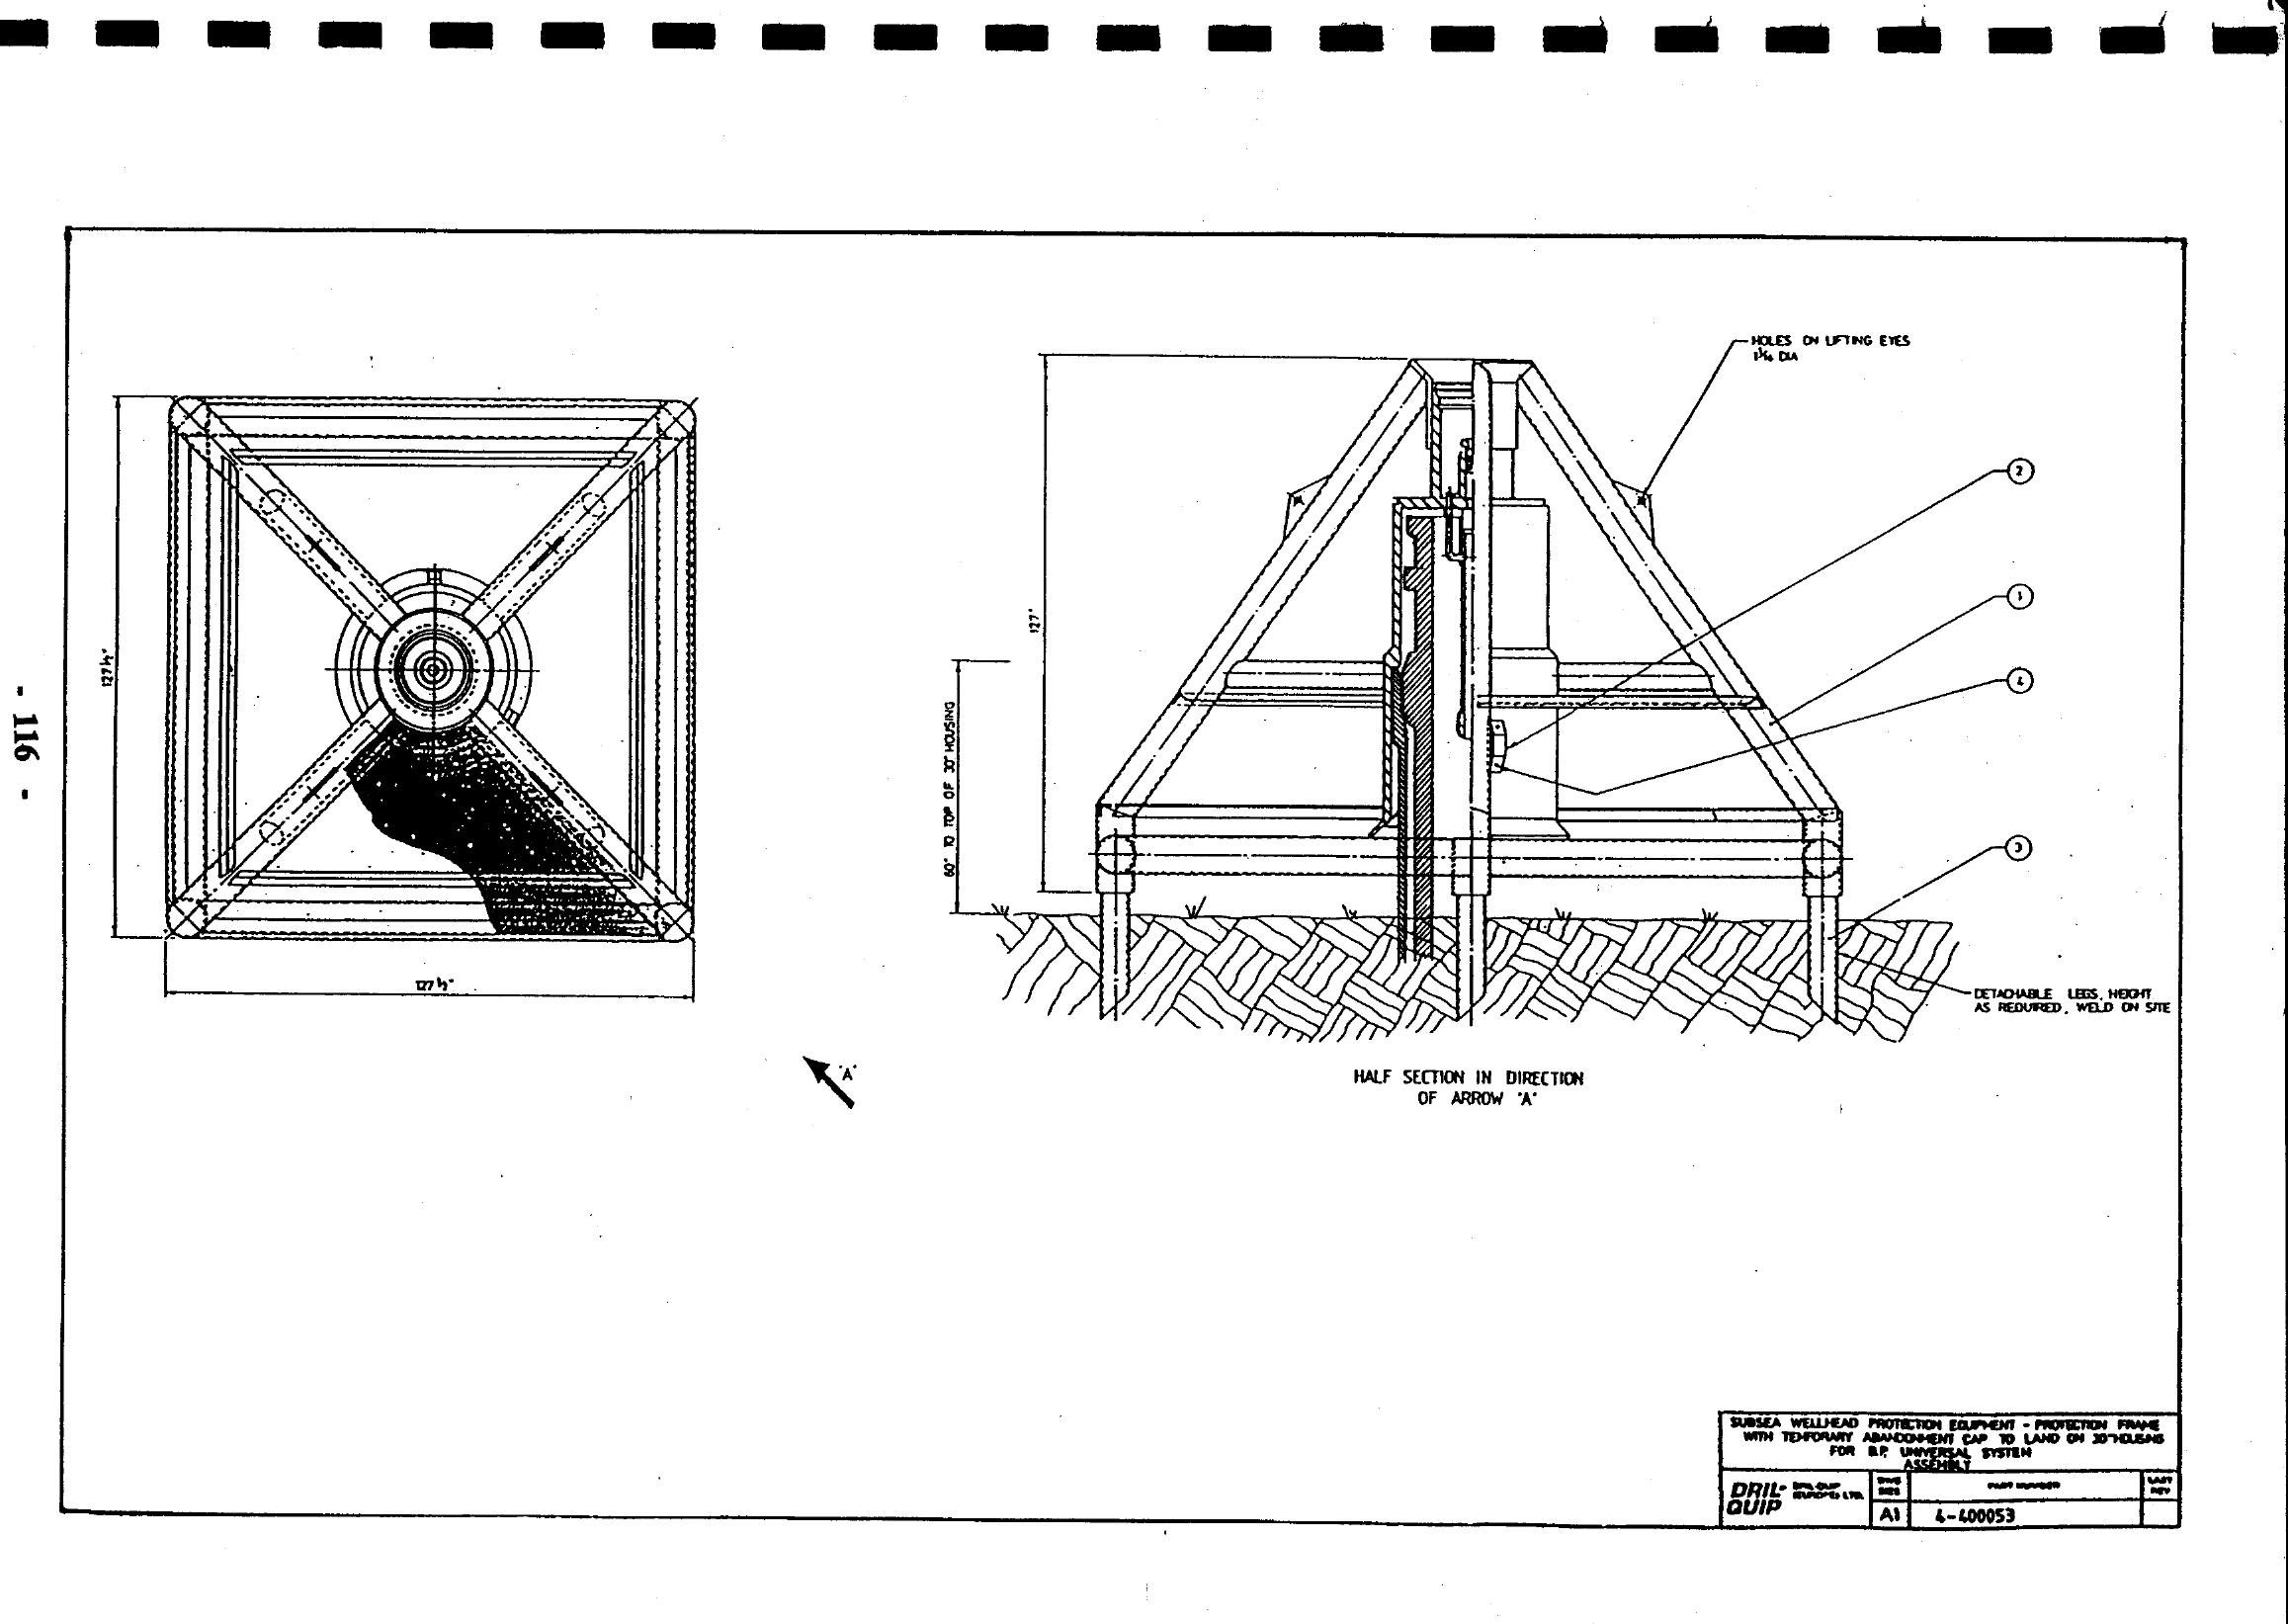graph: (53, 202, 2228, 1559)
